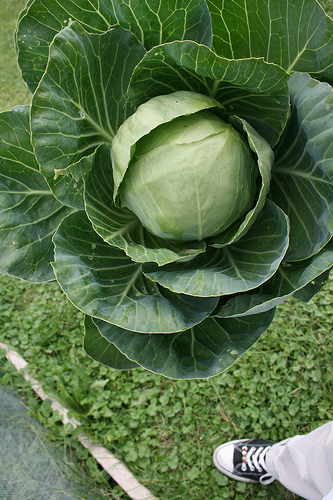cabbage: (116, 113, 254, 240)
